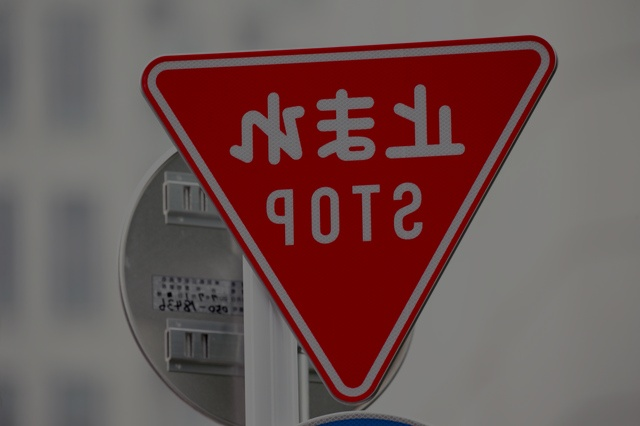Regulatory_sign_triangle: (134, 34, 559, 416)
